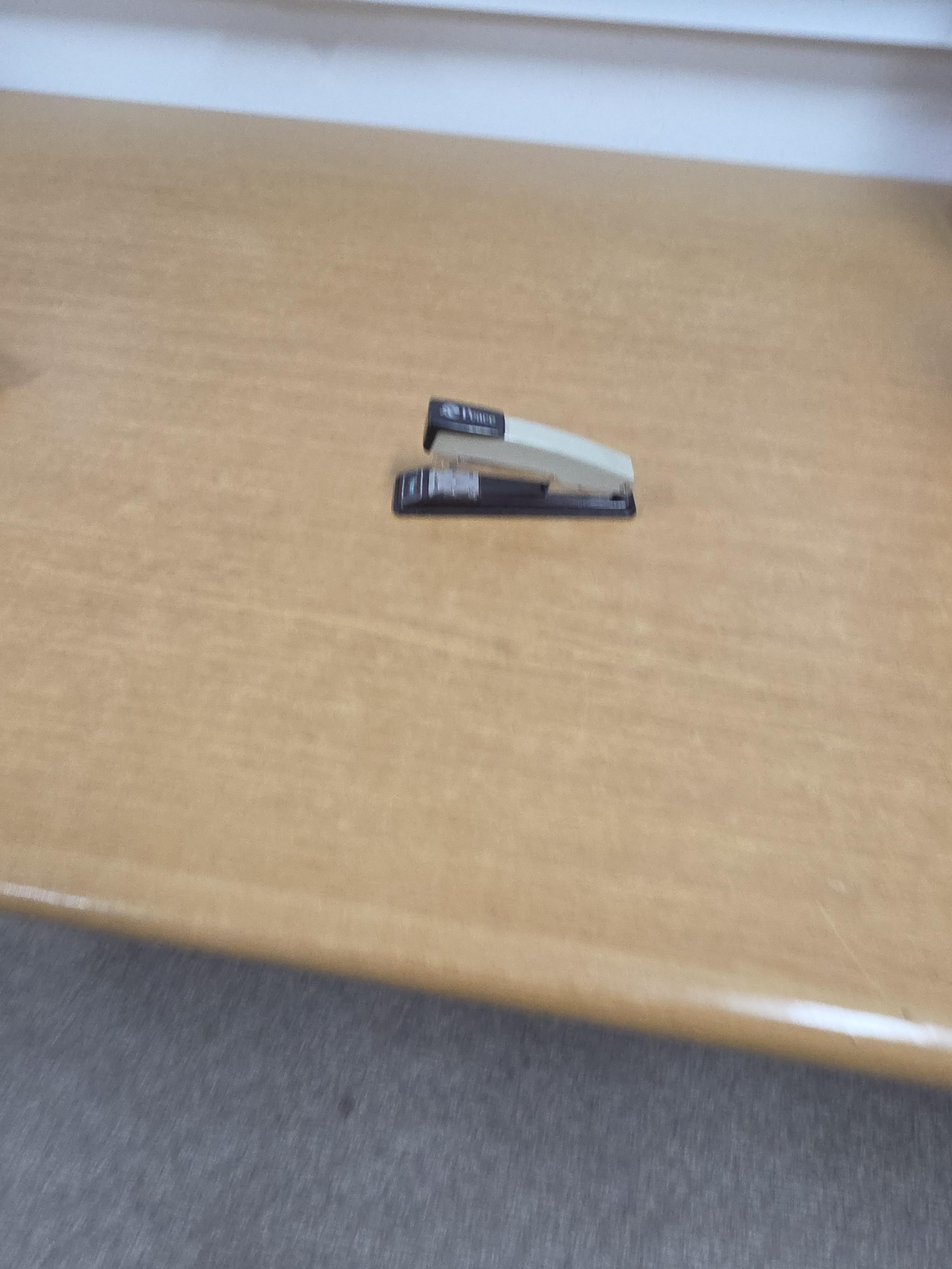stapler: (390, 395, 638, 519)
